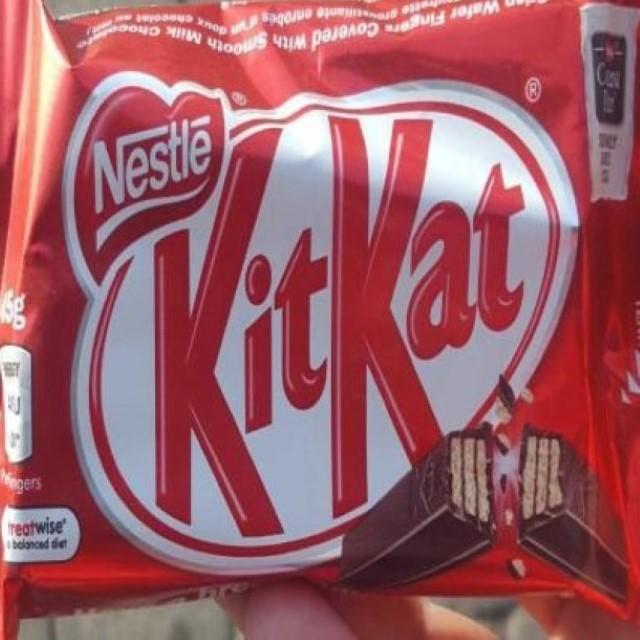kitkat_chocolate: (0, 0, 640, 616)
